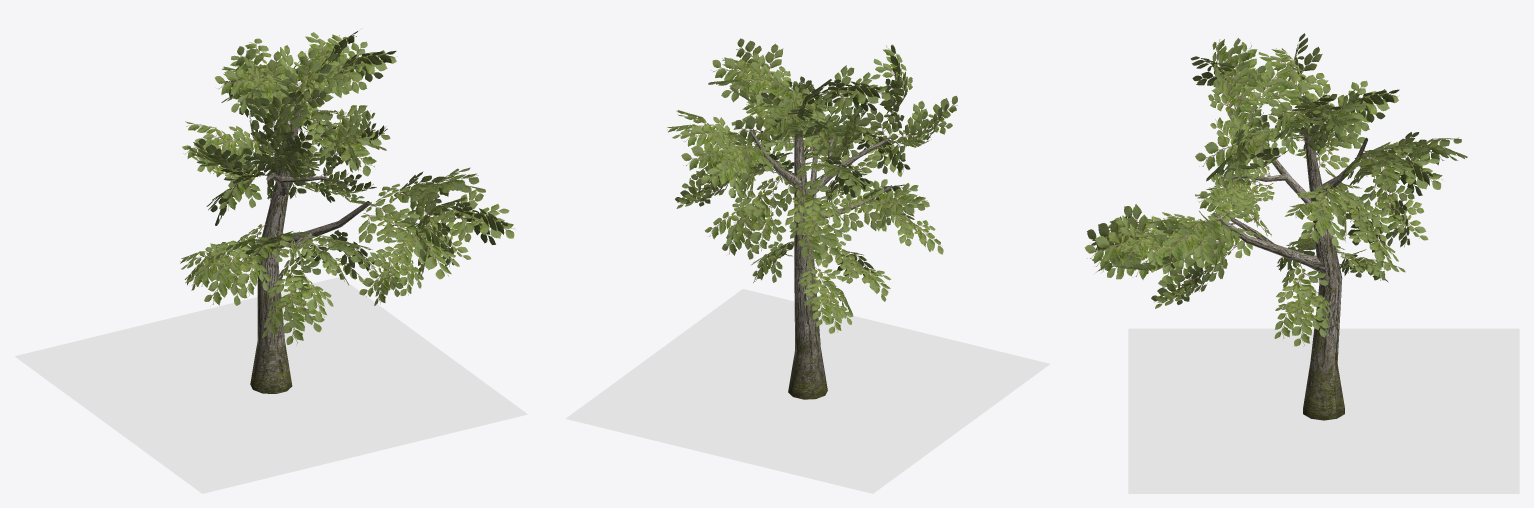
Rendered from free_tree_download.fbx.glb.
3 views of the same model, side by side, from view 1: azimuth 30°, elevation 25°; view 2: azimuth 150°, elevation 25°; view 3: azimuth 270°, elevation 25° (orthographic). The views are drawn at different scales.
Parts seen in each view (by area): view 1: groundplane_Geo, pPlane11 (×6), Tree_trunk, pPlane10 (×4), pPlane9 (×4), pPlane24 (×2), pPlane23 (×2), pPlane21 (×2), pPlane27 (×2), pPlane8, pPlane31, pPlane17 (+6 smaller); view 2: groundplane_Geo, pPlane11 (×8), Tree_trunk, pPlane10 (×4), pPlane8 (×4), pPlane9 (×3), pPlane7 (×3), pPlane16, pPlane14, pPlane29, pPlane31, pPlane19 (+4 smaller); view 3: groundplane_Geo, pPlane11 (×10), Tree_trunk, pPlane10 (×8), pPlane7 (×6), pPlane8 (×5), pPlane9 (×3), pPlane26 (×2), pPlane25 (×2), Tree_Branch, pPlane30, pPlane22 (+6 smaller).
Boxes of the visible parts, <box> form: groundplane_Geo: <box>15,277,527,493</box>; pPlane11 (×6): <box>185,46,507,296</box>; Tree_trunk: <box>250,105,301,393</box>; pPlane10 (×4): <box>204,41,514,305</box>; pPlane9 (×4): <box>219,159,423,296</box>; pPlane24 (×2): <box>243,133,422,243</box>; pPlane23 (×2): <box>249,95,459,279</box>; pPlane21 (×2): <box>284,117,357,320</box>; pPlane27 (×2): <box>221,155,428,223</box>; pPlane8: <box>283,49,333,110</box>; pPlane31: <box>420,167,479,213</box>; pPlane17: <box>278,291,324,345</box>; groundplane_Geo: <box>565,289,1049,493</box>; pPlane11 (×8): <box>681,38,891,326</box>; Tree_trunk: <box>788,115,827,399</box>; pPlane10 (×4): <box>701,72,890,263</box>; pPlane8 (×4): <box>754,65,842,299</box>; pPlane9 (×3): <box>681,116,790,282</box>; pPlane7 (×3): <box>735,179,908,239</box>; pPlane16: <box>878,183,925,226</box>; pPlane14: <box>837,187,885,231</box>; pPlane29: <box>735,109,790,163</box>; pPlane31: <box>912,95,957,134</box>; pPlane19: <box>897,219,943,254</box>; groundplane_Geo: <box>1128,328,1519,493</box>; pPlane11 (×10): <box>1084,33,1433,338</box>; Tree_trunk: <box>1303,127,1344,420</box>; pPlane10 (×8): <box>1151,80,1442,346</box>; pPlane7 (×6): <box>1118,57,1414,325</box>; pPlane8 (×5): <box>1248,70,1358,305</box>; pPlane9 (×3): <box>1252,60,1400,326</box>; pPlane26 (×2): <box>1126,45,1265,287</box>; pPlane25 (×2): <box>1087,56,1235,267</box>; Tree_Branch: <box>1212,212,1330,272</box>; pPlane30: <box>1157,229,1214,267</box>; pPlane22: <box>1208,55,1248,112</box>.
Size of the model in its own units: 7.79 by 8.14 by 8.77.
Materials: 3 (2 with a texture image).
